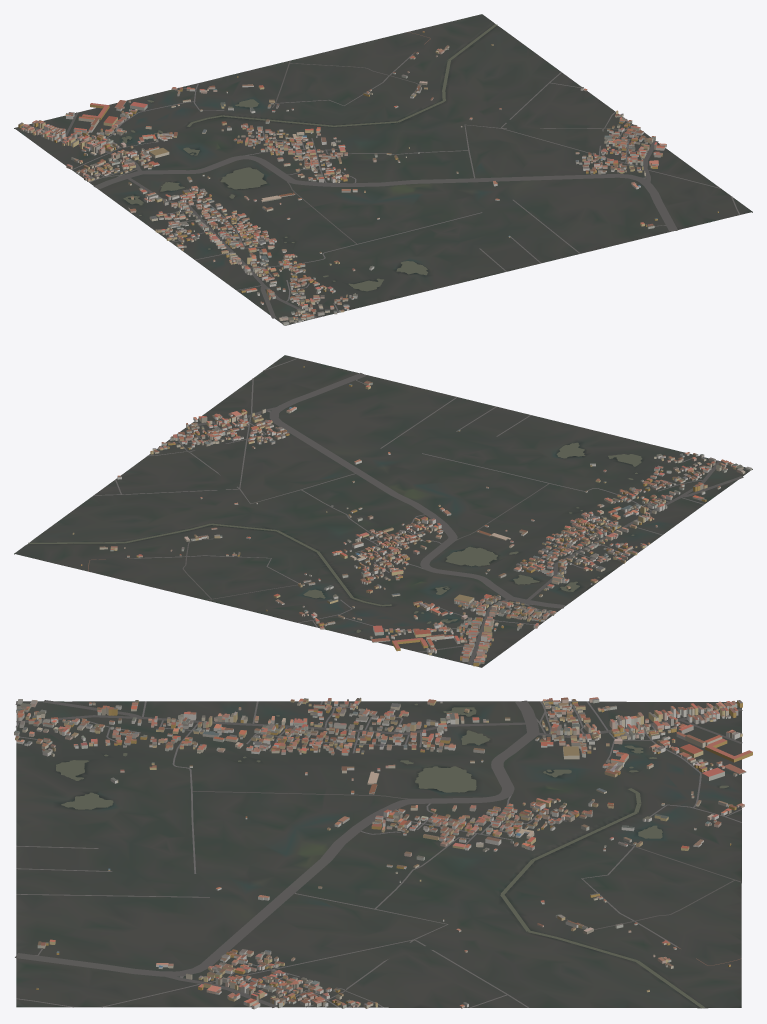
3 renders of one model, top to bottom at view 1: azimuth 30°, elevation 25°; view 2: azimuth 150°, elevation 25°; view 3: azimuth 270°, elevation 25°, orthographic. The views are drawn at different scales.
Visible parts, largest first — view 1: ground, buildings, roads, water; view 2: ground, buildings, roads, water; view 3: ground, buildings, roads, water.
Boxes of the visible parts, <box> form: ground: <box>14,14,752,324</box>; buildings: <box>18,31,718,325</box>; roads: <box>29,32,740,325</box>; water: <box>121,24,497,291</box>; ground: <box>14,355,752,667</box>; buildings: <box>72,366,752,666</box>; roads: <box>88,358,743,664</box>; water: <box>28,442,642,632</box>; ground: <box>16,701,741,1008</box>; buildings: <box>14,697,752,1009</box>; roads: <box>15,700,742,1007</box>; water: <box>56,703,728,1008</box>.
Bounding box in the file's own units: 1413 × 25.05 × 1428.
